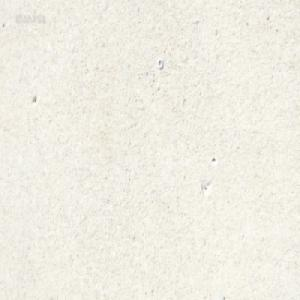Washer: (157, 59, 163, 70)
